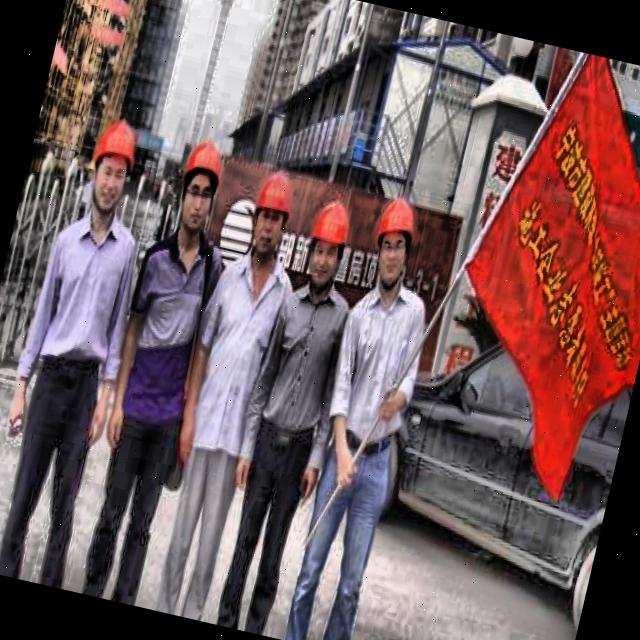helmet: (74, 106, 154, 222), (288, 185, 362, 306), (235, 158, 307, 272), (164, 132, 233, 246), (358, 194, 426, 294)
